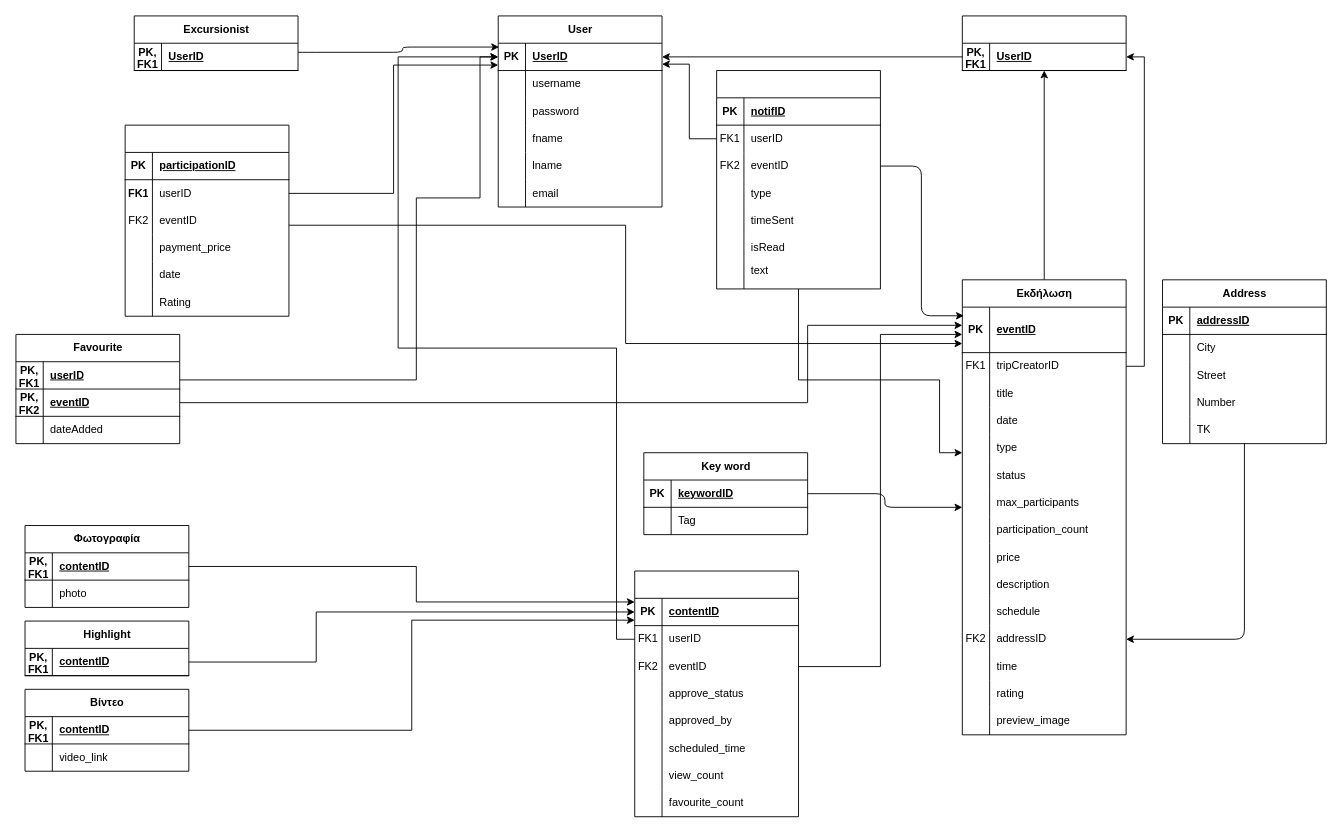
This 1342x833 diagram has some shape labels left out. The shapes that lost their labels are listed below. From the top down, each one's box as (x1, y1, x2, y2) in pixels, then its label:
(961, 15, 1126, 71): Trip Creator
(716, 70, 880, 289): Ειδοποίηση
(124, 124, 289, 316): Συμμετοχή
(634, 570, 799, 817): Περιεχόμενο
